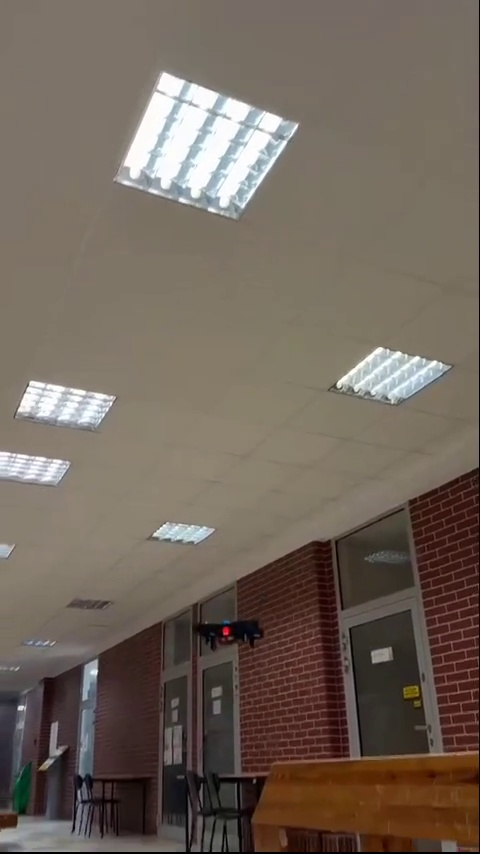drone: (189, 620, 265, 652)
